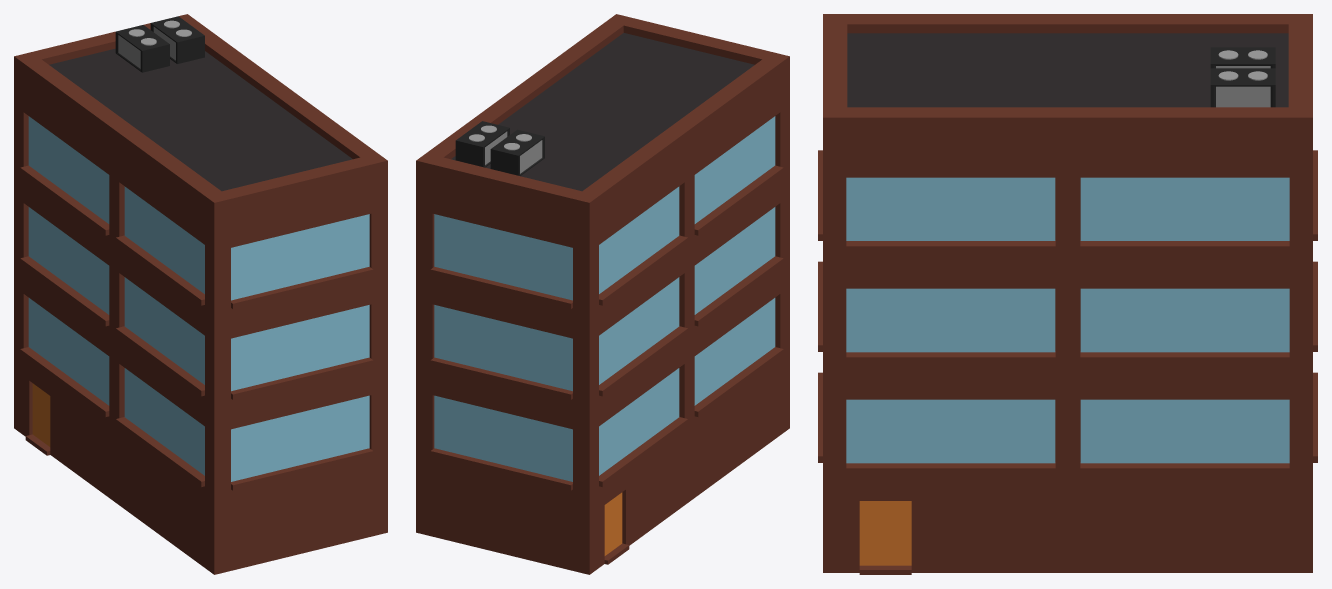
The model's file is flat.glb.
3 views of the same model, side by side, from view 1: azimuth 30°, elevation 25°; view 2: azimuth 150°, elevation 25°; view 3: azimuth 270°, elevation 25° (orthographic). The views are drawn at different scales.
Parts seen in each view (by area): view 1: airco.001; view 2: airco.001; view 3: airco.001.
Boxes of the visible parts, <box> form: airco.001: <box>14,14,387,574</box>; airco.001: <box>416,14,789,574</box>; airco.001: <box>818,14,1317,574</box>.
Size of the model in its own units: 5.2 by 10.68 by 10.2.
